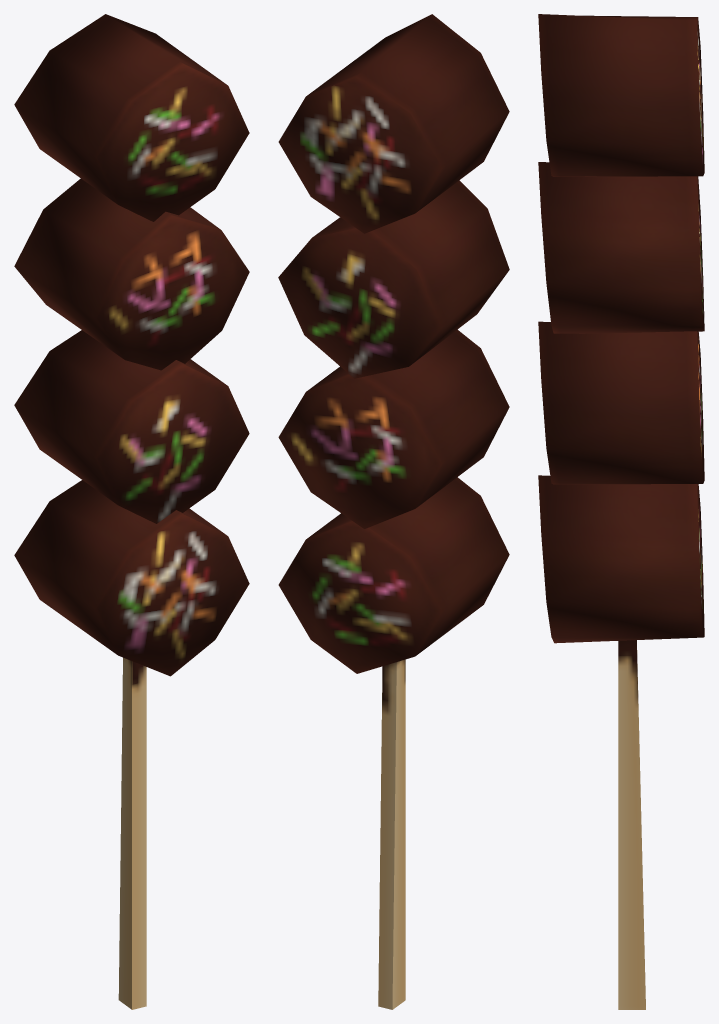
Rendered from jsf_ChocolateBanana_b02_c01.fbx.
The picture shows the model from 3 angles, left to right: view 1: azimuth 30°, elevation 25°; view 2: azimuth 150°, elevation 25°; view 3: azimuth 270°, elevation 25°; orthographic projection. The views are drawn at different scales.
Visible parts, largest first — view 1: jsf_ChocolateBanana_b02_c01; view 2: jsf_ChocolateBanana_b02_c01; view 3: jsf_ChocolateBanana_b02_c01.
Boxes of the visible parts, x1,y1,x2,y2 form: jsf_ChocolateBanana_b02_c01: (14,14,249,1009); jsf_ChocolateBanana_b02_c01: (278,14,509,1009); jsf_ChocolateBanana_b02_c01: (538,14,704,1009).
Size of the model in its own units: 4.05 by 22.49 by 3.41.
